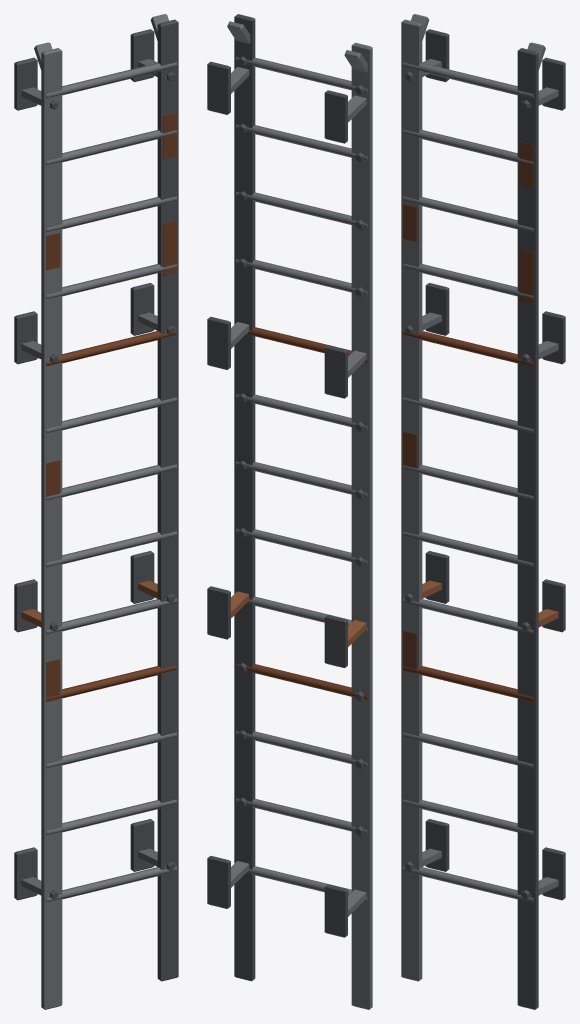
Rendered from SM_LPD_Struct_LadderIron_01.fbx.
3 renders of one model, left to right at view 1: azimuth 30°, elevation 25°; view 2: azimuth 150°, elevation 25°; view 3: azimuth 330°, elevation 25°, orthographic.
Visible parts, largest first — view 1: SM_LPD_Struct_LadderIron_01; view 2: SM_LPD_Struct_LadderIron_01; view 3: SM_LPD_Struct_LadderIron_01.
Boxes of the visible parts, <box> form: SM_LPD_Struct_LadderIron_01: <box>14,14,178,1009</box>; SM_LPD_Struct_LadderIron_01: <box>207,14,372,1009</box>; SM_LPD_Struct_LadderIron_01: <box>401,14,565,1009</box>.
Bounding box in the file's own units: 0.6 × 4 × 0.236.
